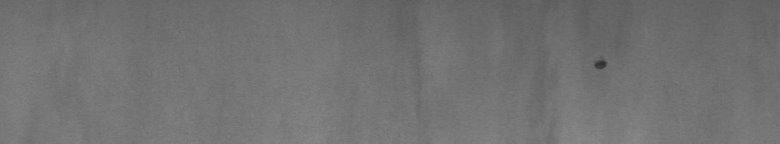fi: (588, 52, 613, 76)
